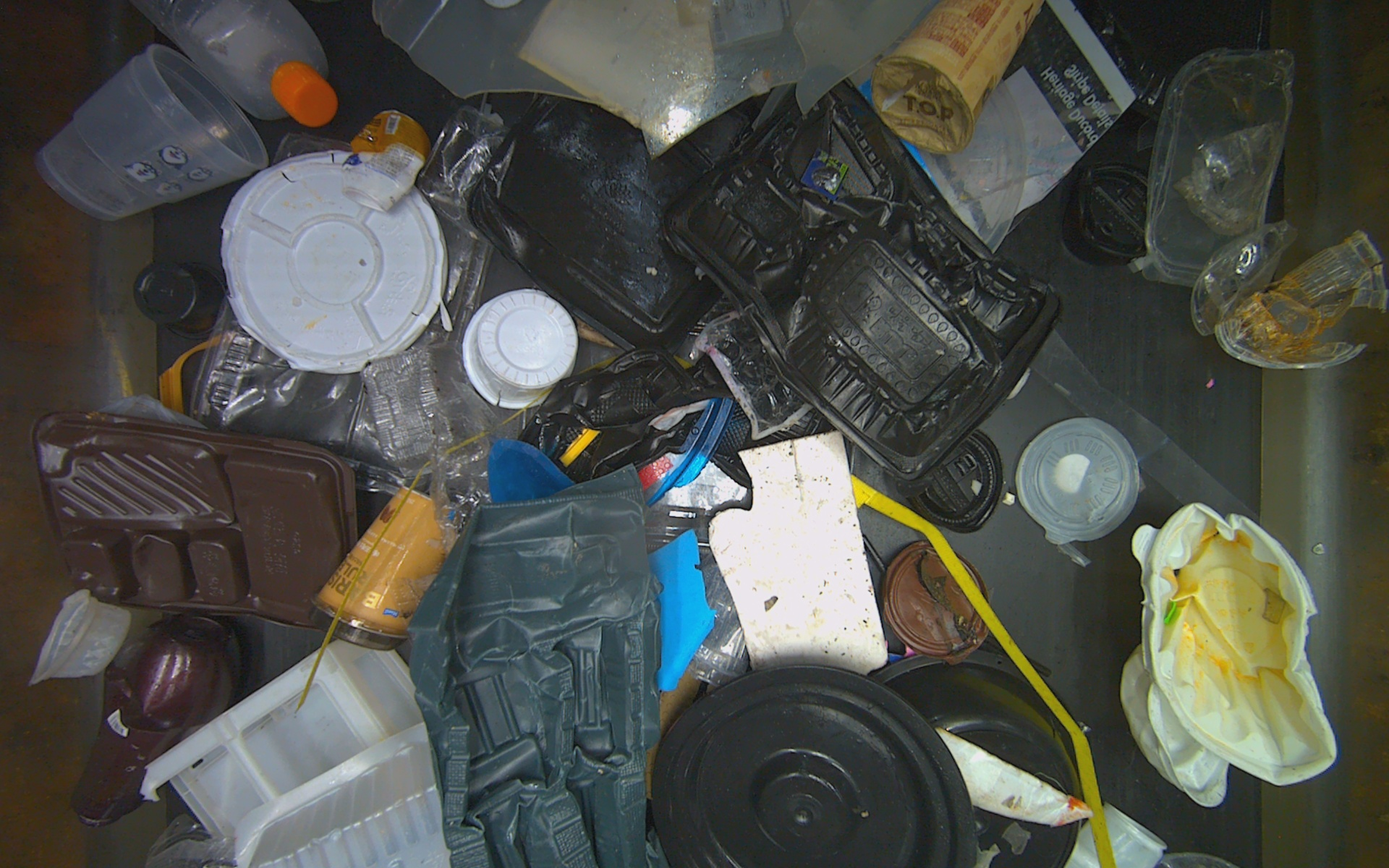PET-C: (1140, 48, 1294, 287), (361, 344, 488, 477), (1190, 220, 1296, 335)
PP-B: (661, 78, 1064, 498), (652, 664, 978, 867), (517, 346, 708, 484)
PS-W: (219, 150, 452, 374), (1215, 231, 1387, 370), (462, 288, 578, 411), (341, 111, 430, 212)
